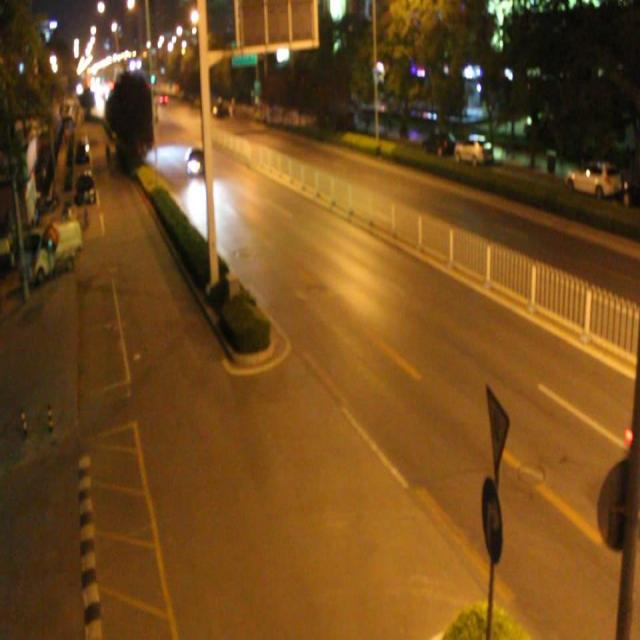car: (186, 142, 206, 177)
